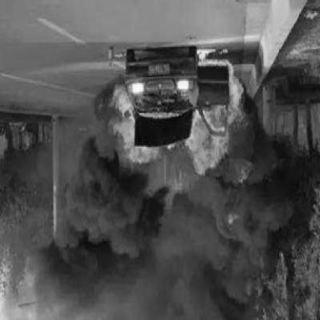Smoke: (38, 153, 280, 313)
